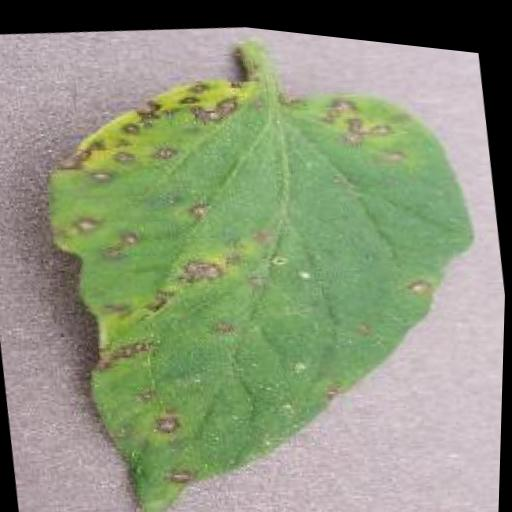Septoria: (21, 21, 512, 512)
